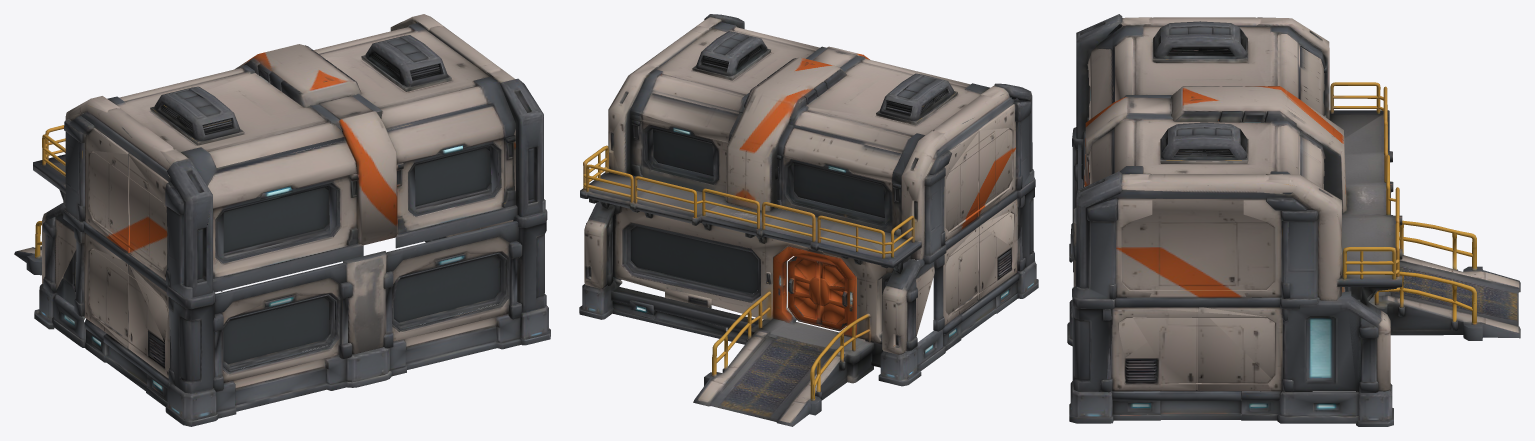
3 views of the same model, side by side, from view 1: azimuth 30°, elevation 25°; view 2: azimuth 150°, elevation 25°; view 3: azimuth 270°, elevation 25° (orthographic). The views are drawn at different scales.
Parts seen in each view (by area): view 1: tripo_node_eabae4f1-cbde-4f78-a2a0-97c4d1e19427; view 2: tripo_node_eabae4f1-cbde-4f78-a2a0-97c4d1e19427; view 3: tripo_node_eabae4f1-cbde-4f78-a2a0-97c4d1e19427.
Boxes of the visible parts, box(x1,y1,x2,y2) form: tripo_node_eabae4f1-cbde-4f78-a2a0-97c4d1e19427: box(14, 14, 550, 426); tripo_node_eabae4f1-cbde-4f78-a2a0-97c4d1e19427: box(579, 14, 1038, 426); tripo_node_eabae4f1-cbde-4f78-a2a0-97c4d1e19427: box(1067, 14, 1520, 426).
Size of the model in its own units: 12 by 8.3 by 12.96.
1 material, 1 textured.
